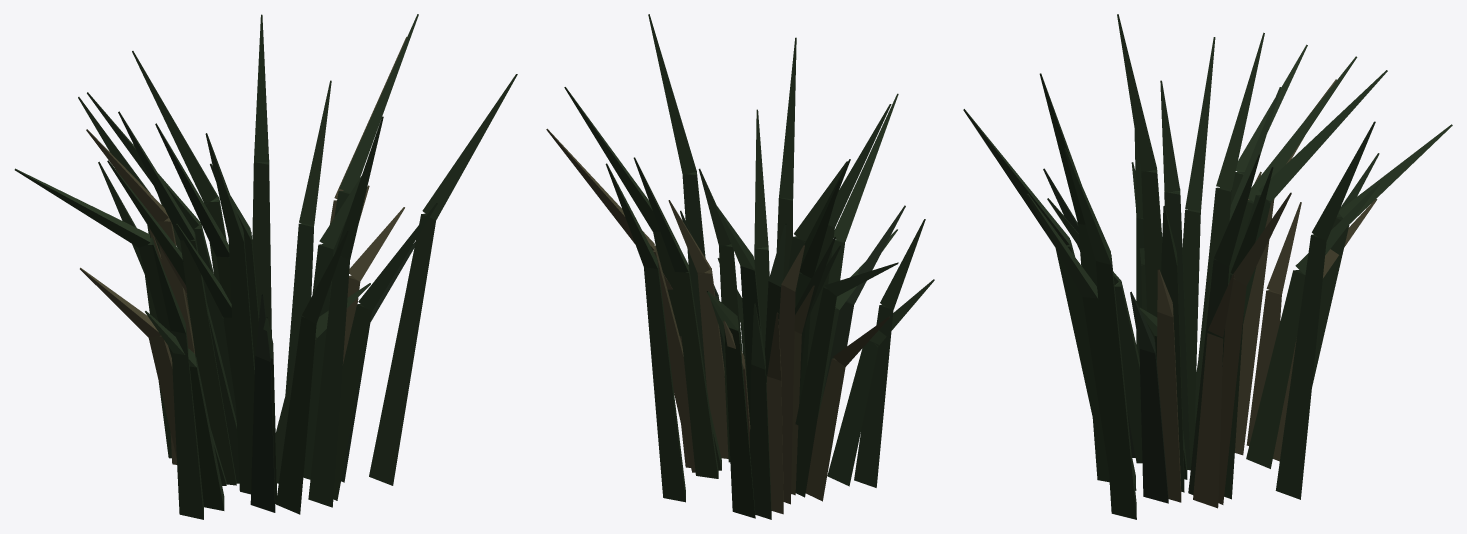
The model's file is SM_ENV_TufoGrama.fbx.
The picture shows the model from 3 angles, left to right: view 1: azimuth 30°, elevation 25°; view 2: azimuth 150°, elevation 25°; view 3: azimuth 270°, elevation 25°; orthographic projection. The views are drawn at different scales.
Visible parts, largest first — view 1: SM_ENV_TufoGrama; view 2: SM_ENV_TufoGrama; view 3: SM_ENV_TufoGrama.
Part boxes in pixels (x1=…): SM_ENV_TufoGrama: x1=14, y1=14, x2=517, y2=519; SM_ENV_TufoGrama: x1=546, y1=14, x2=934, y2=519; SM_ENV_TufoGrama: x1=963, y1=14, x2=1452, y2=519.
Bounding box in the file's own units: 0.4368 × 0.4416 × 0.4659.
